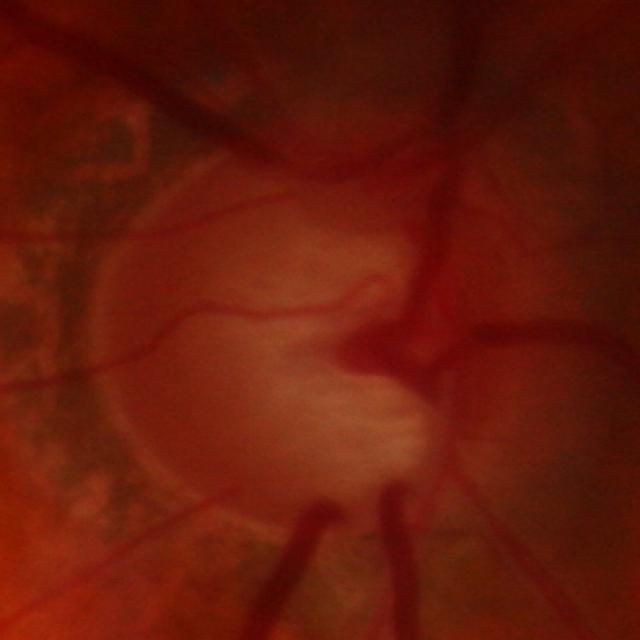OC: (221, 227, 434, 462)
OD: (84, 128, 540, 538)
